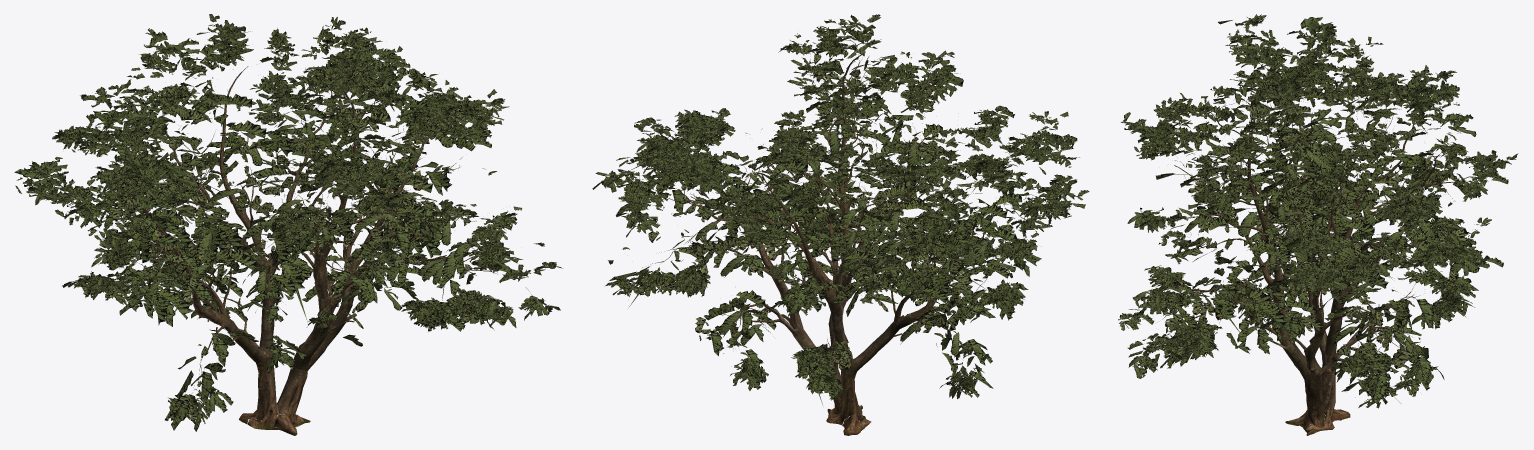
Rendered from jacaranda_tree.glb.
The picture shows the model from 3 angles, left to right: view 1: azimuth 30°, elevation 25°; view 2: azimuth 150°, elevation 25°; view 3: azimuth 270°, elevation 25°; orthographic projection. The views are drawn at different scales.
Visible parts, largest first — view 1: jacaranda_tree_LOD0, jacaranda_tree_LOD0.002, jacaranda_tree_LOD0.001; view 2: jacaranda_tree_LOD0, jacaranda_tree_LOD0.002, jacaranda_tree_LOD0.001; view 3: jacaranda_tree_LOD0, jacaranda_tree_LOD0.002, jacaranda_tree_LOD0.001.
Part boxes in pixels (x1,y1,x2,y2): jacaranda_tree_LOD0: (14, 14, 563, 431); jacaranda_tree_LOD0.002: (204, 208, 387, 435); jacaranda_tree_LOD0.001: (47, 50, 534, 411); jacaranda_tree_LOD0: (592, 14, 1089, 404); jacaranda_tree_LOD0.002: (756, 200, 910, 435); jacaranda_tree_LOD0.001: (642, 39, 1033, 382); jacaranda_tree_LOD0: (1118, 14, 1518, 408); jacaranda_tree_LOD0.002: (1254, 236, 1382, 435); jacaranda_tree_LOD0.001: (1127, 51, 1488, 397).
Size of the model in its own units: 24.63 by 19.55 by 18.85.
Materials: 3 (3 with a texture image).
